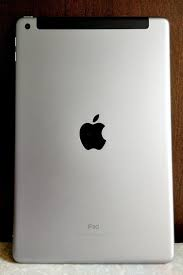apple: (71, 104, 115, 157)
